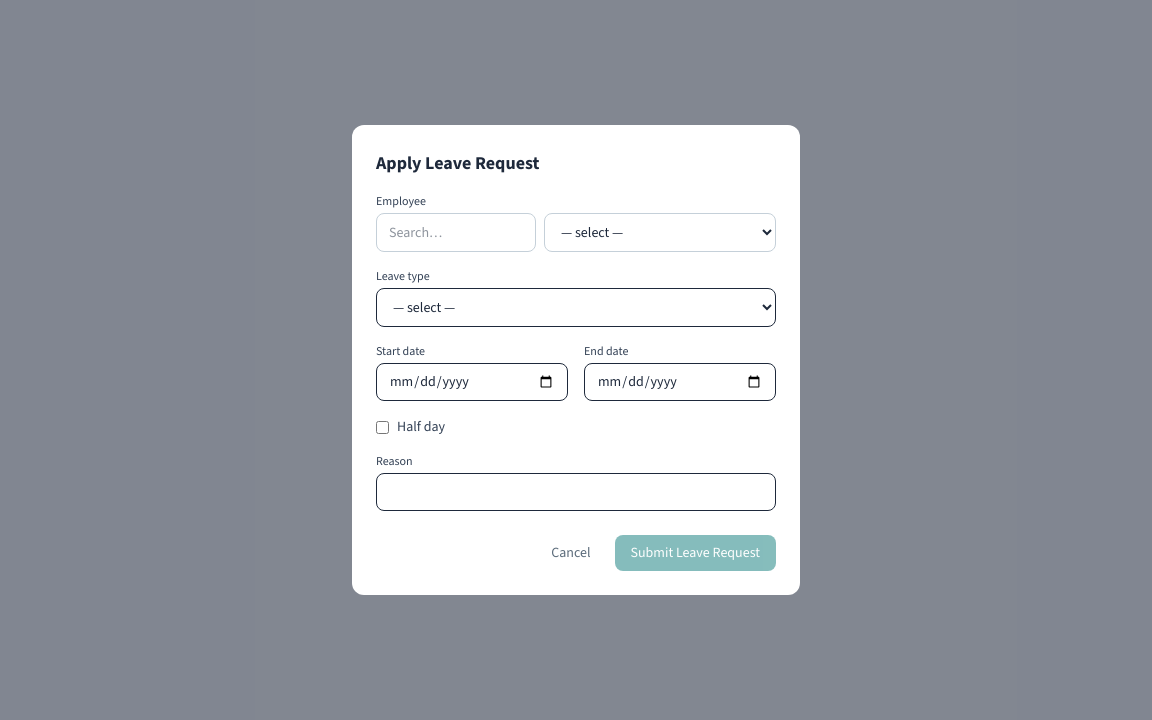
Test case: LeaveApplyModal › blocks a request beyond the balance (after pending) on a block type
The image size is (1152, 720).
Select "N100 Neha Joshi" in the 1st dropdown at (660, 232), box [544,213,776,252]
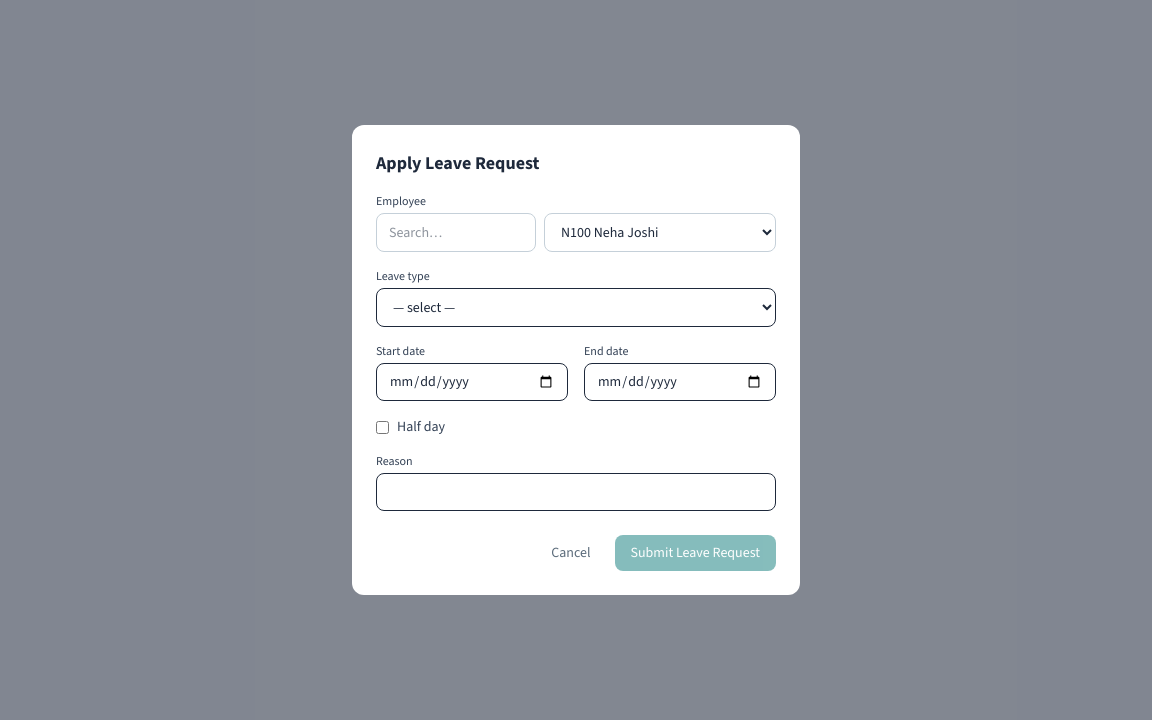
Select "Casual leave (CL)" in the dropdown labelled "Leave type" at (576, 308), box [376,288,776,327]
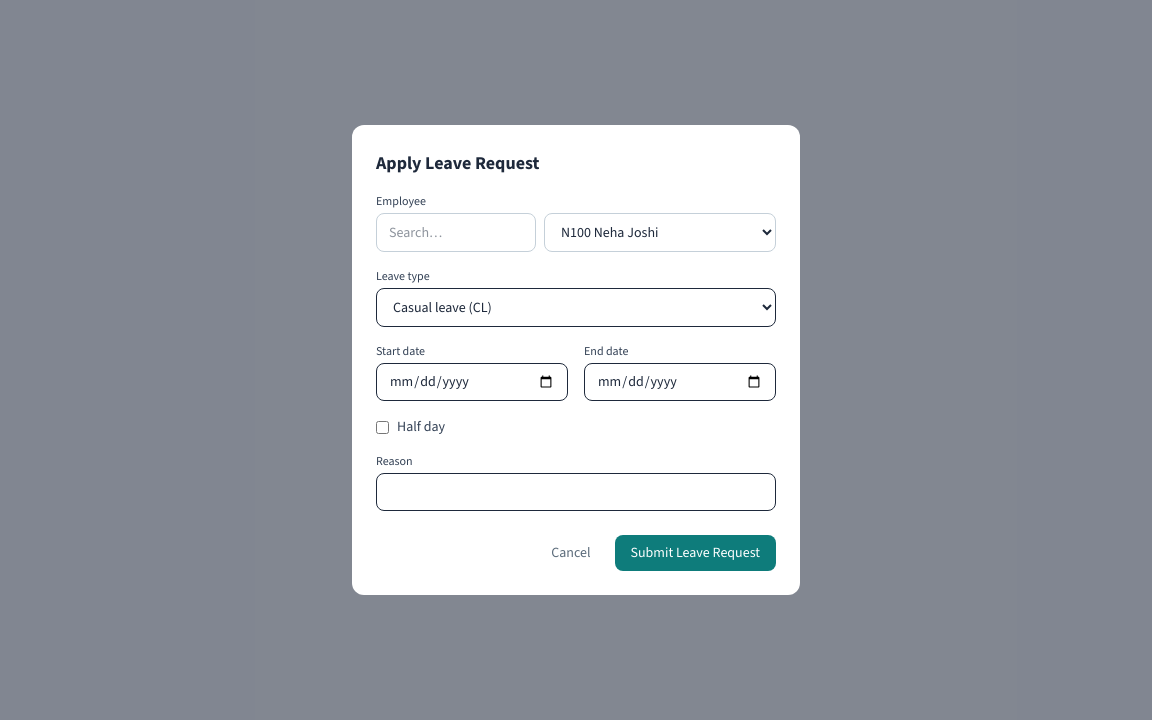
Type "2026-03-16" into the date field labelled "Start date" at (472, 382), box [376,363,568,401]
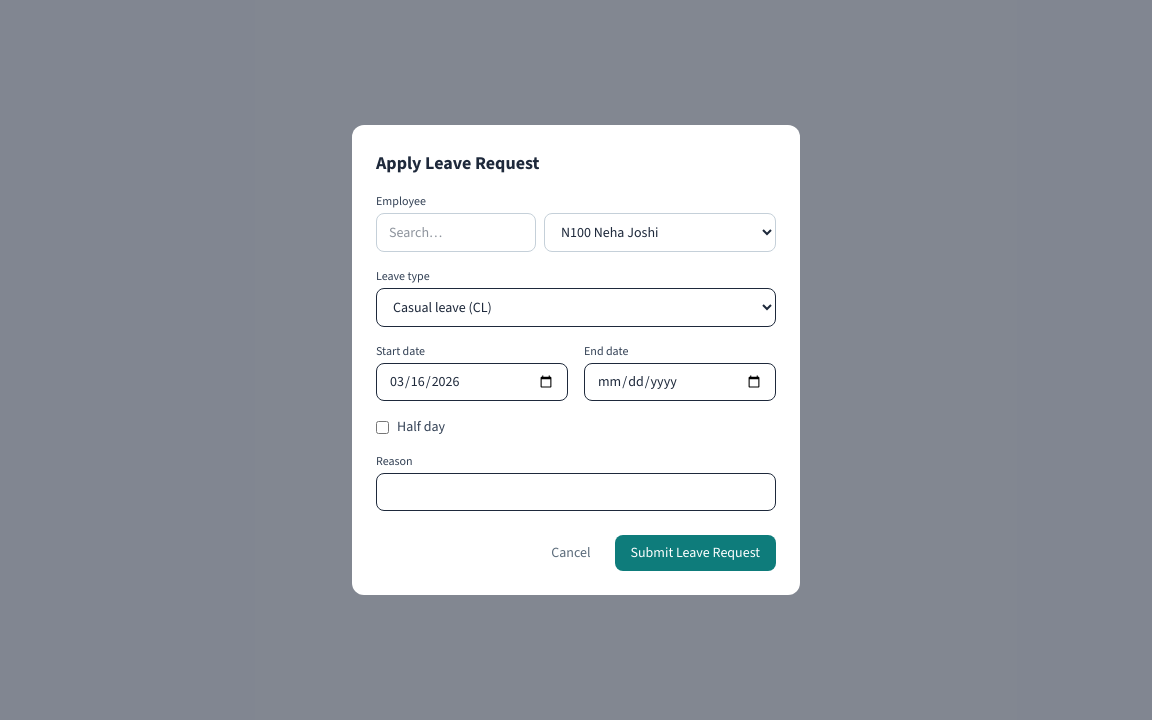
Type "2026-03-18" into the date field labelled "End date" at (680, 382), box [584,363,776,401]
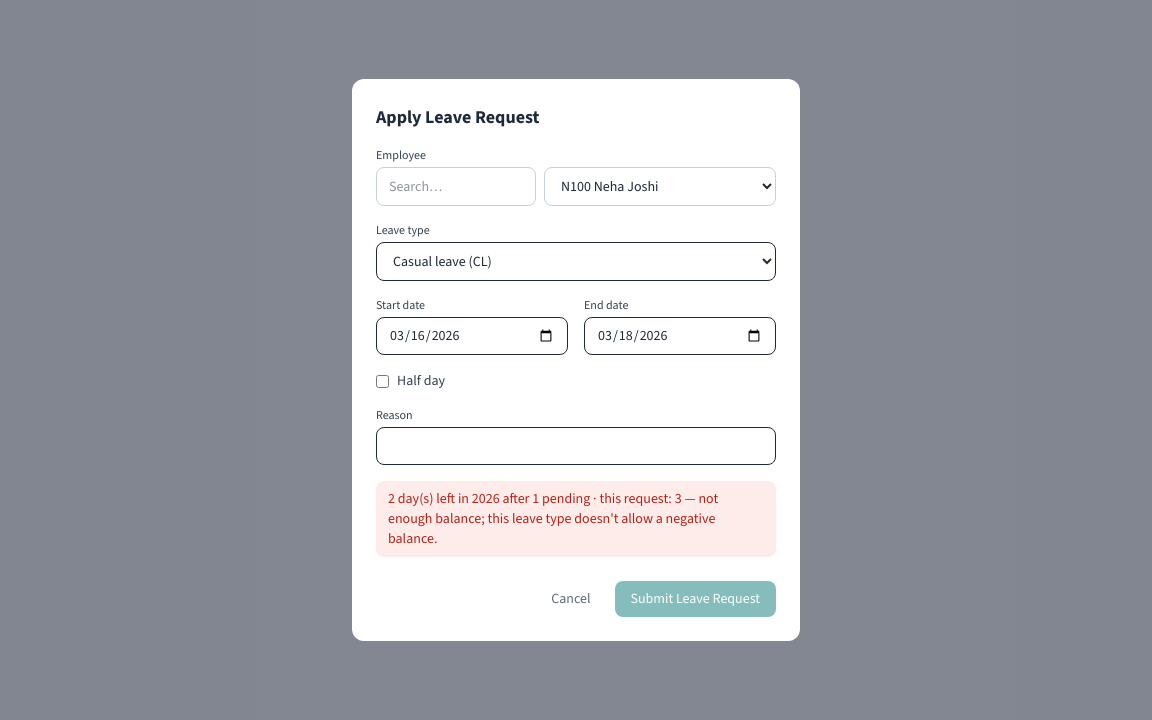
Expected: the text "2 day(s) left in 2026 after 1 pending · this request: 3" is shown, [376,481,776,557]
Expected: the text "doesn't allow a negative balance" is shown, [388,489,718,548]
Expected: the button "Submit Leave Request" is disabled, [614,581,776,617]
